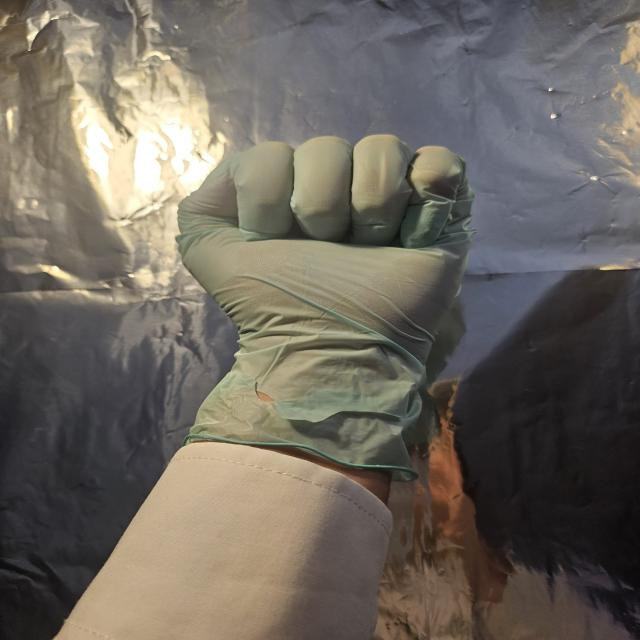gloves_damaged: (178, 133, 476, 486)
